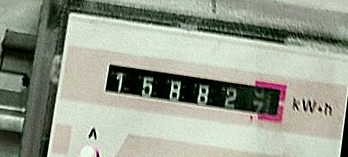1: (113, 68, 130, 91)
2: (222, 84, 241, 109)
5: (140, 71, 157, 98)
7: (252, 94, 266, 113)
8: (196, 80, 213, 106), (168, 77, 184, 101)
screen: (96, 52, 298, 131)
